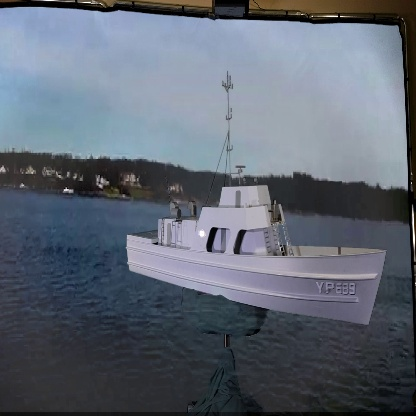YP689: (125, 70, 388, 328)
